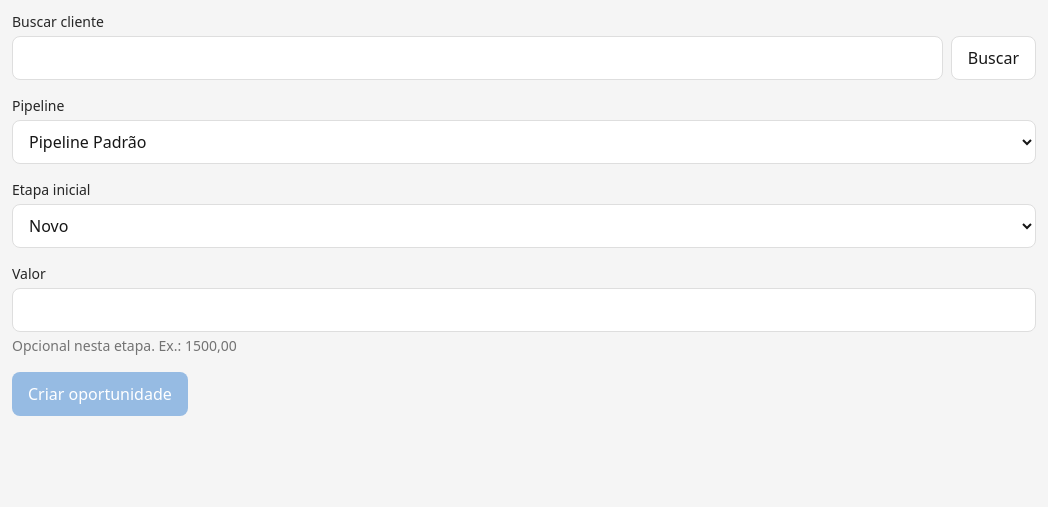
it: OpportunityForm › D-034: a exigência da etapa 2 não vale para a etapa 3 (Proposta aceita sem valor)
The width and height of the screenshot is (1048, 507).
Select "Proposta" in the dropdown labelled "Etapa inicial" at coordinates (524, 226), box [12,204,1036,248]
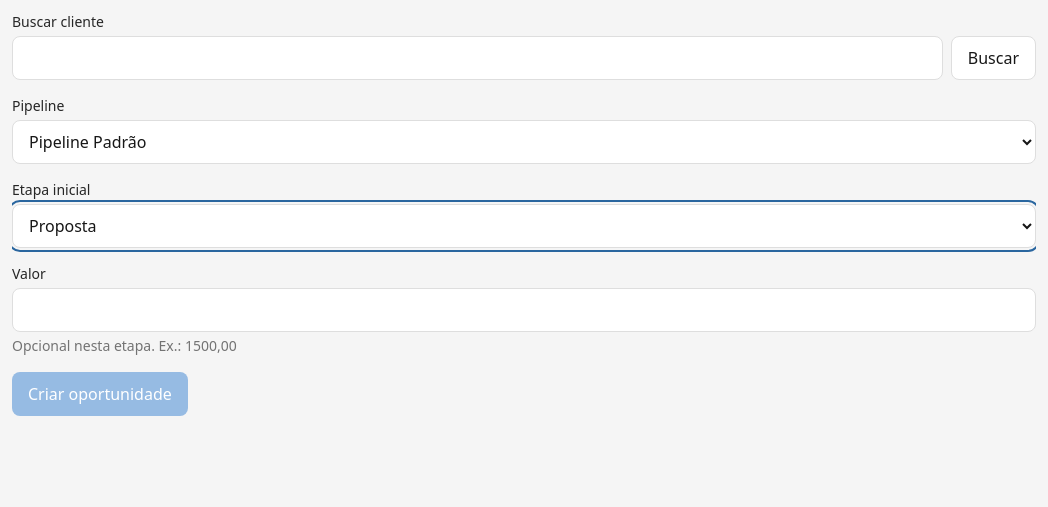
Type "Alfa" into the field labelled "Buscar cliente" at coordinates (477, 58), box [12,36,943,80]
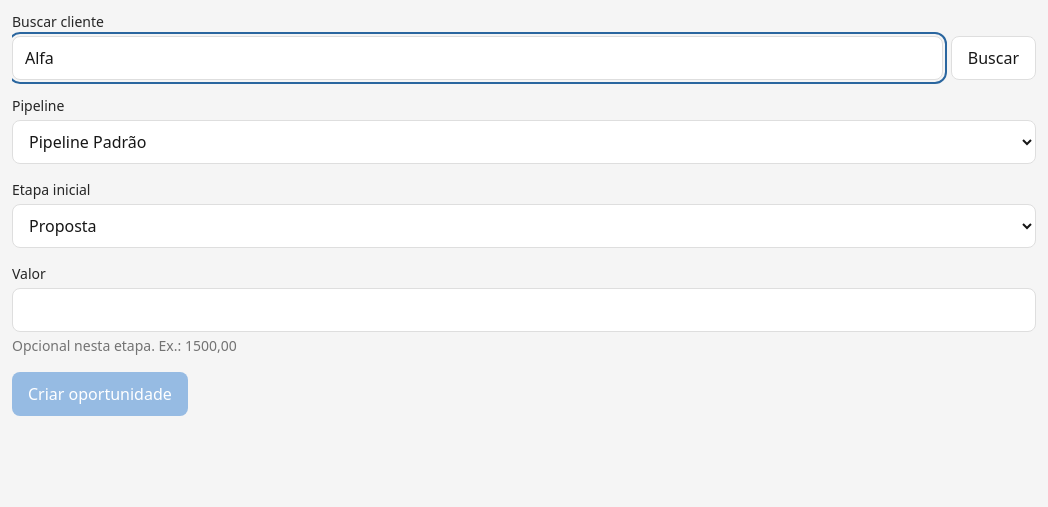
Click the button "Buscar" at coordinates (993, 58), box [951,36,1036,80]
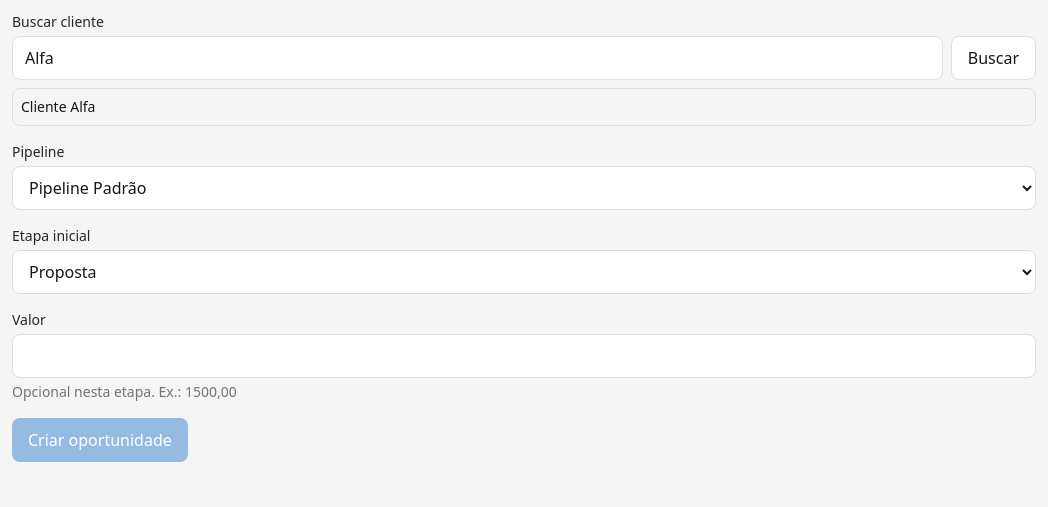
Click the button "Cliente Alfa" at coordinates (58, 106), box [12,88,1036,126]
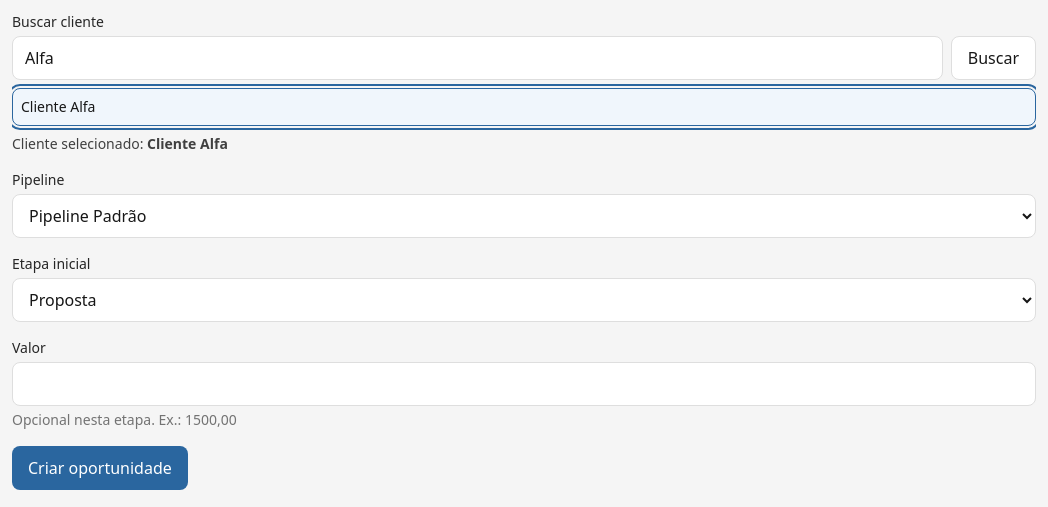
Now the button "Criar oportunidade" is enabled, box [12,446,188,490]
